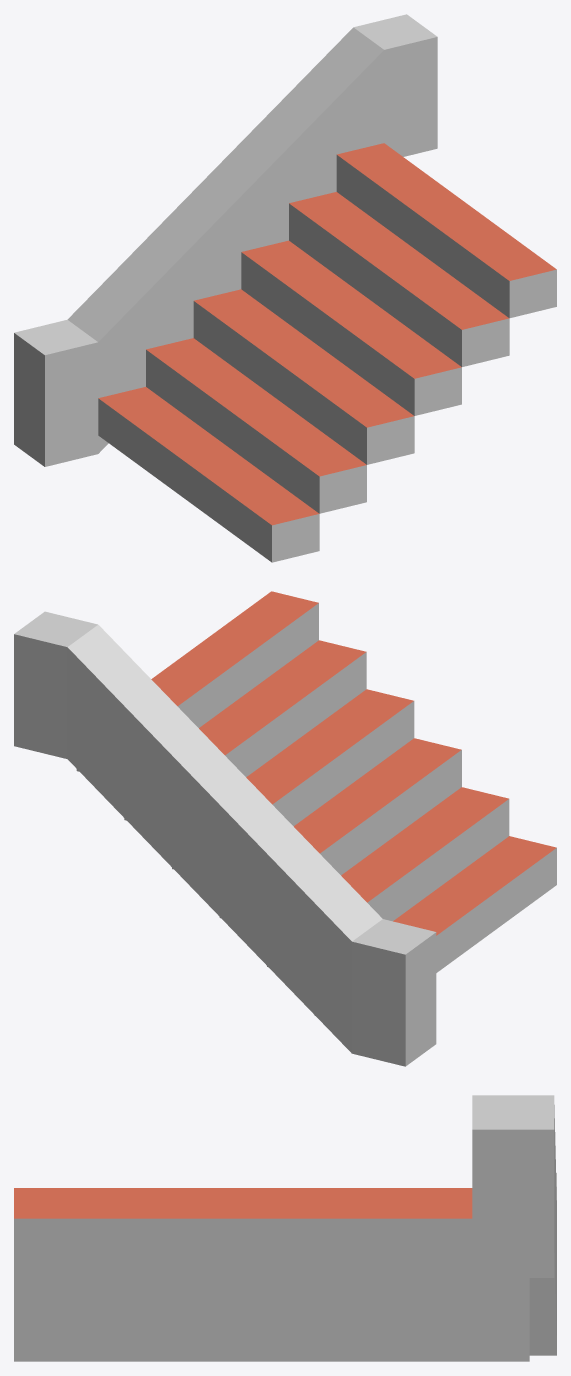
File: stairs_small.fbx
The picture shows the model from 3 angles, top to bottom: view 1: azimuth 30°, elevation 25°; view 2: azimuth 150°, elevation 25°; view 3: azimuth 270°, elevation 25°; orthographic projection. The views are drawn at different scales.
Parts seen in each view (by area): view 1: staris marches small, stairs small; view 2: stairs small, staris marches small; view 3: staris marches small, stairs small.
Part boxes in pixels (x1=…): staris marches small: x1=98, y1=143, x2=556, y2=562; stairs small: x1=14, y1=14, x2=437, y2=466; stairs small: x1=14, y1=611, x2=436, y2=1066; staris marches small: x1=76, y1=591, x2=556, y2=1015; staris marches small: x1=14, y1=1188, x2=529, y2=1361; stairs small: x1=472, y1=1095, x2=556, y2=1355.
Size of what is drawn, in the model's own units: 220 by 180 by 199.
